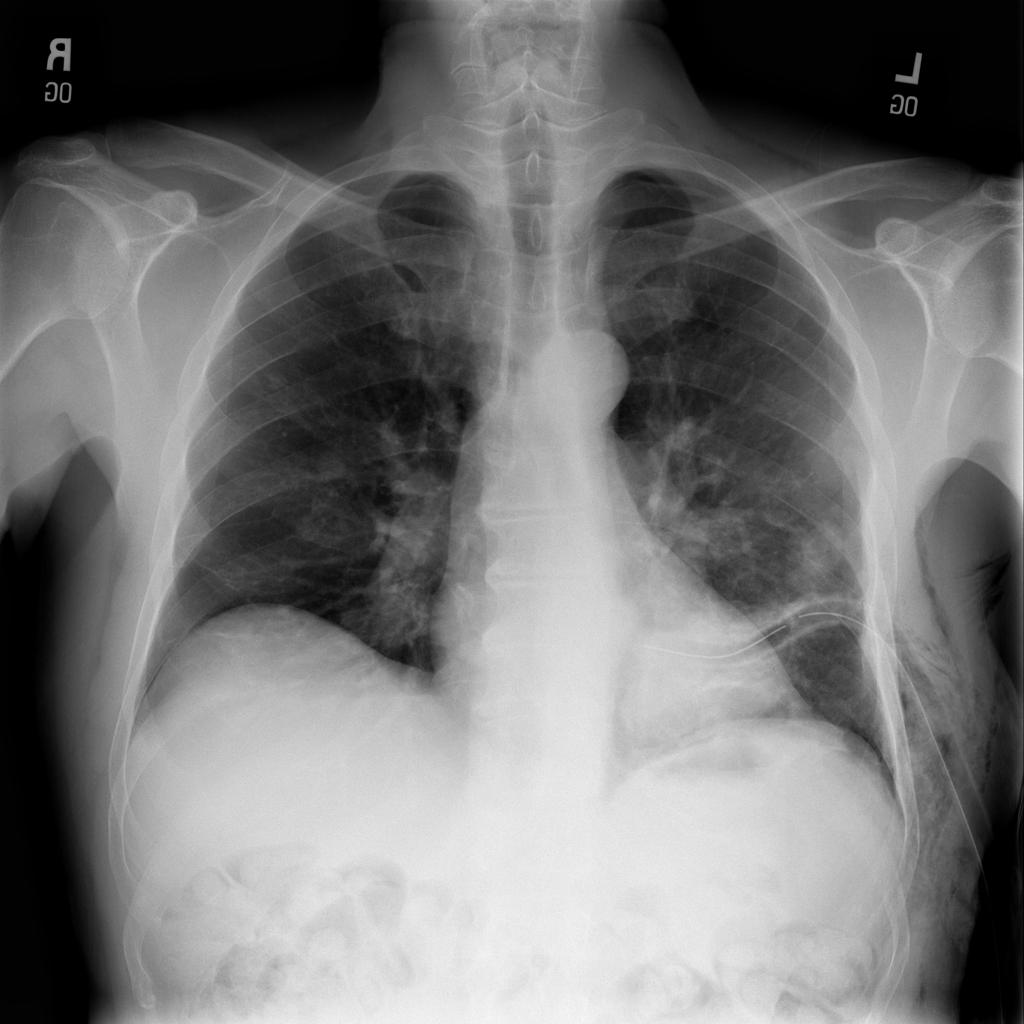nodule: (783, 504, 861, 585), (293, 431, 371, 494)
